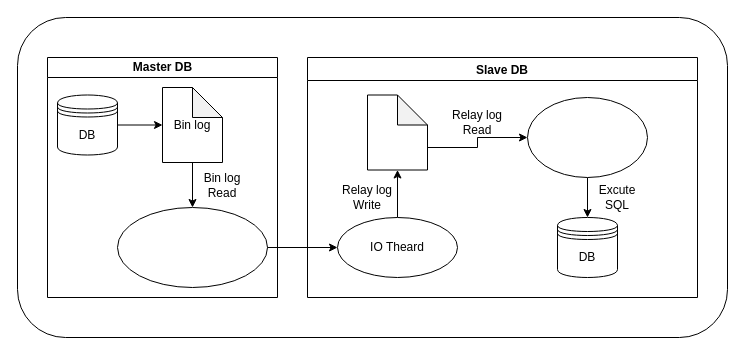
Some shapes in this 745 by 355 pixel diagram are drawn without their labels. Each missing label, with the centre of its shape:
Bin log Dump Thread: (192,247)
Relay log: (397,132)
SQL Thread: (587,137)
